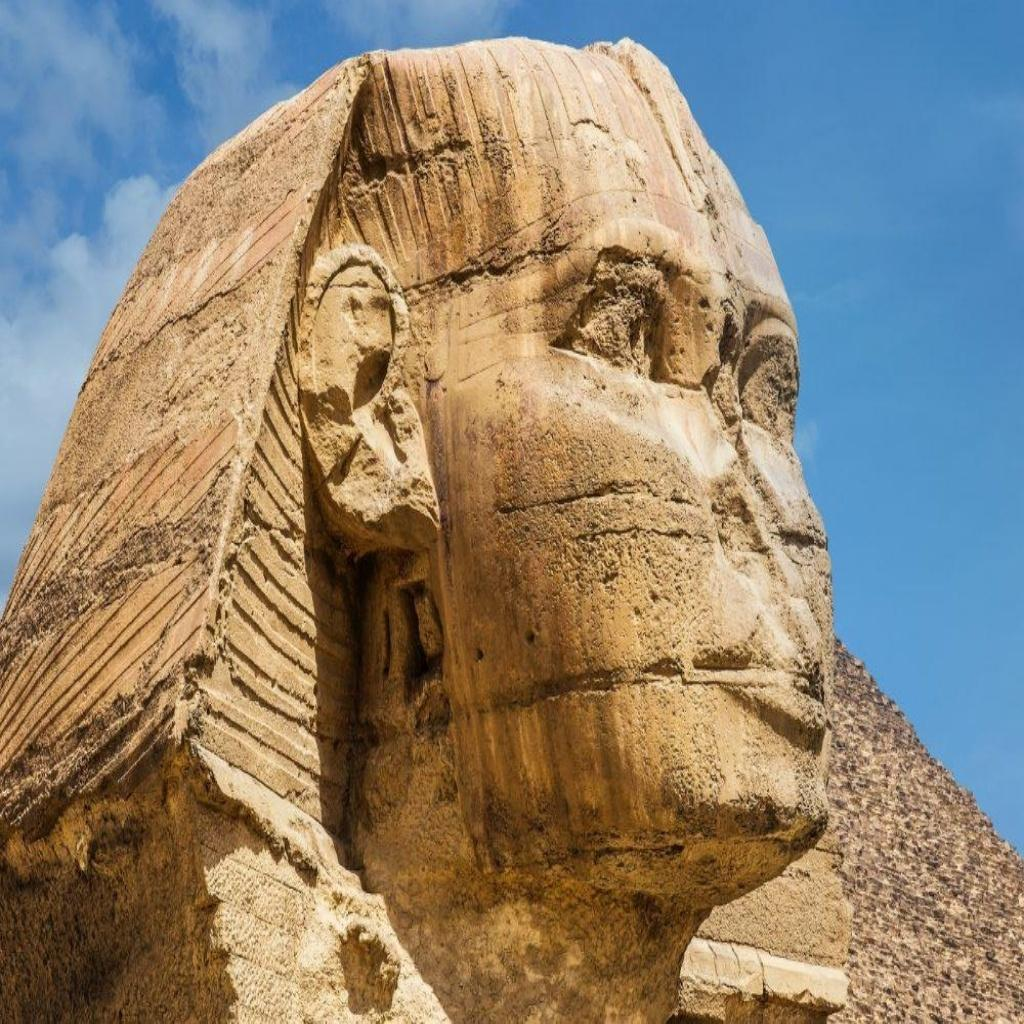Sphinx: (1, 32, 845, 1021)
